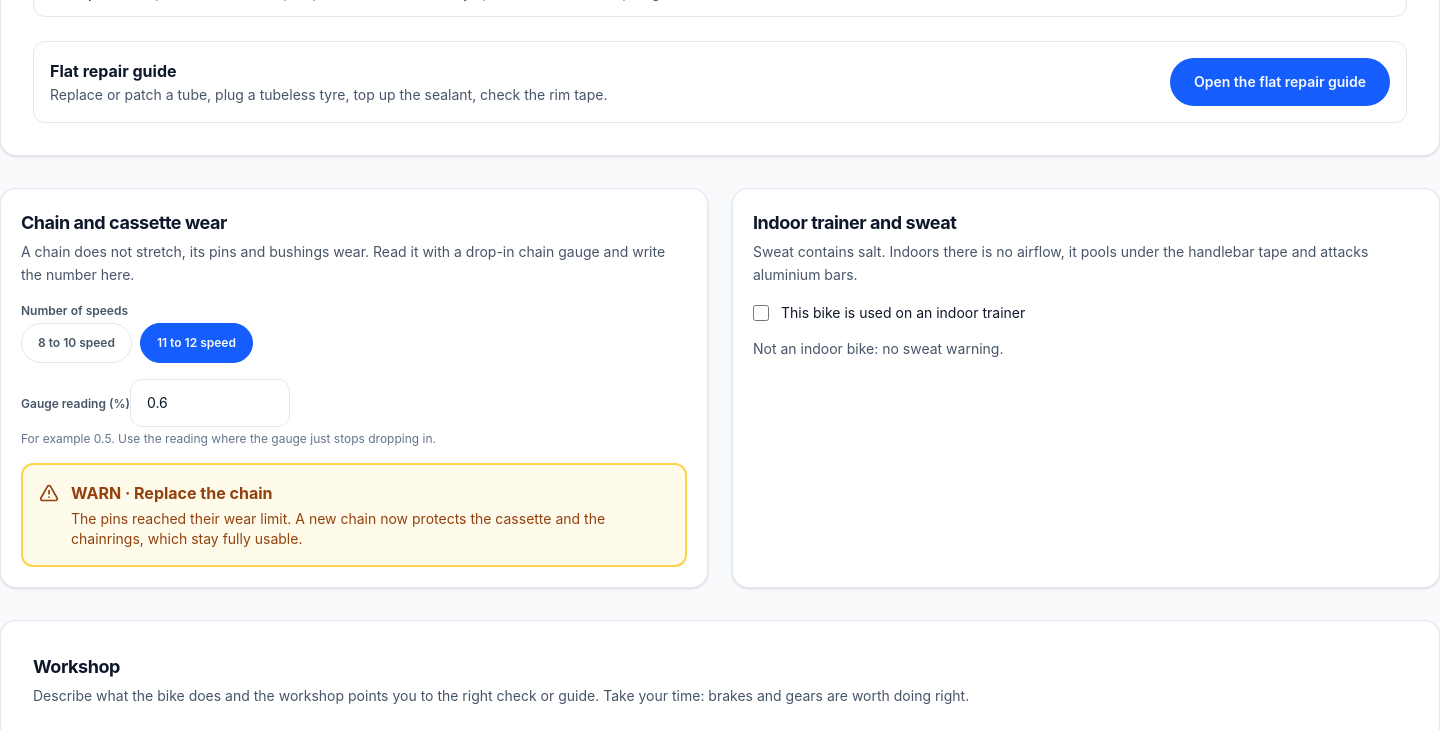
Test case: the bAIkcare page (en) › the chain gauge › should refuse a reading that is not a number and clear the verdict when the field is emptied
(page scrolled)
Replace the text in the field with test id "chain-reading" with "abc" at x=210, y=403, box [130, 379, 290, 427]
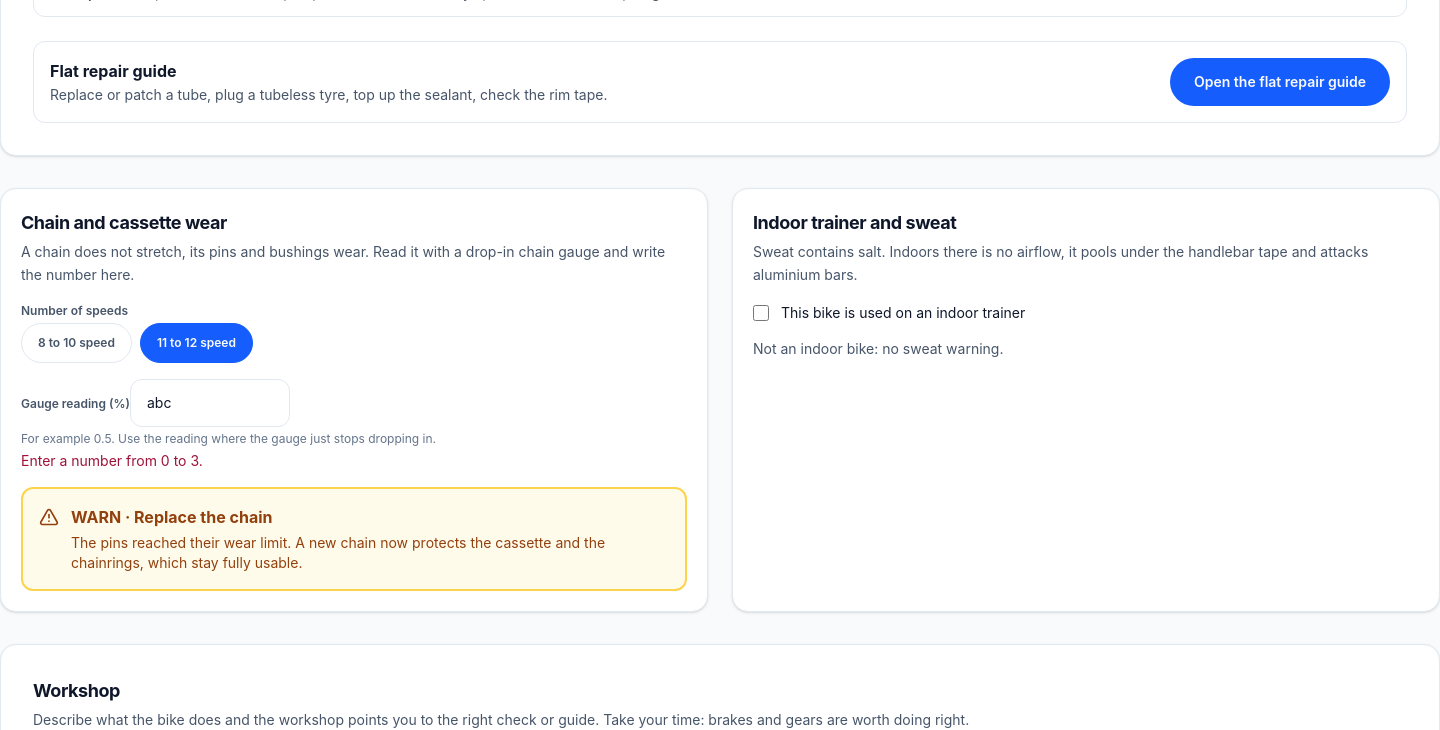
Now the message "Enter a number from 0 to 3." is shown, box [21, 452, 203, 469]
Clear the field with test id "chain-reading" at x=210, y=403, box [130, 379, 290, 427]
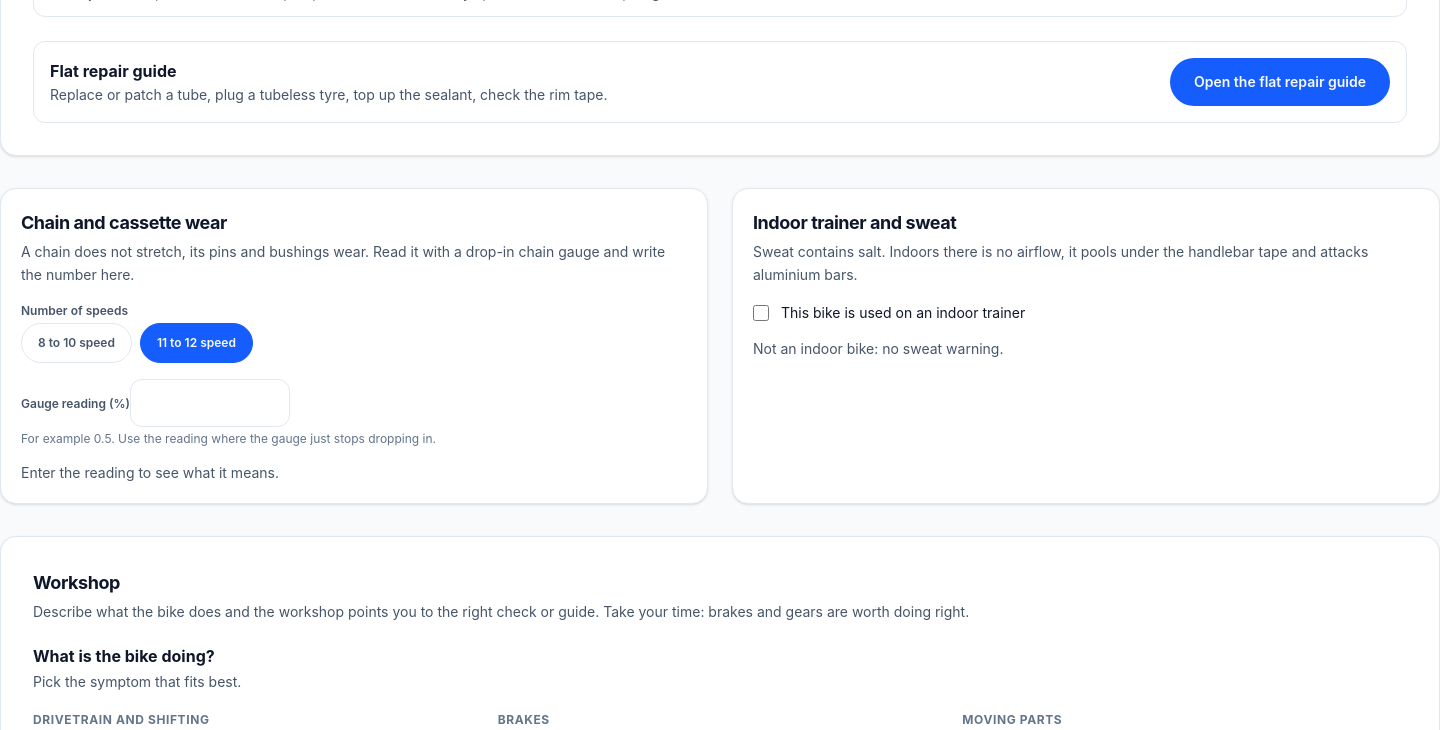
Now the text "Enter the reading to see what it means." is shown, box [21, 464, 279, 481]
